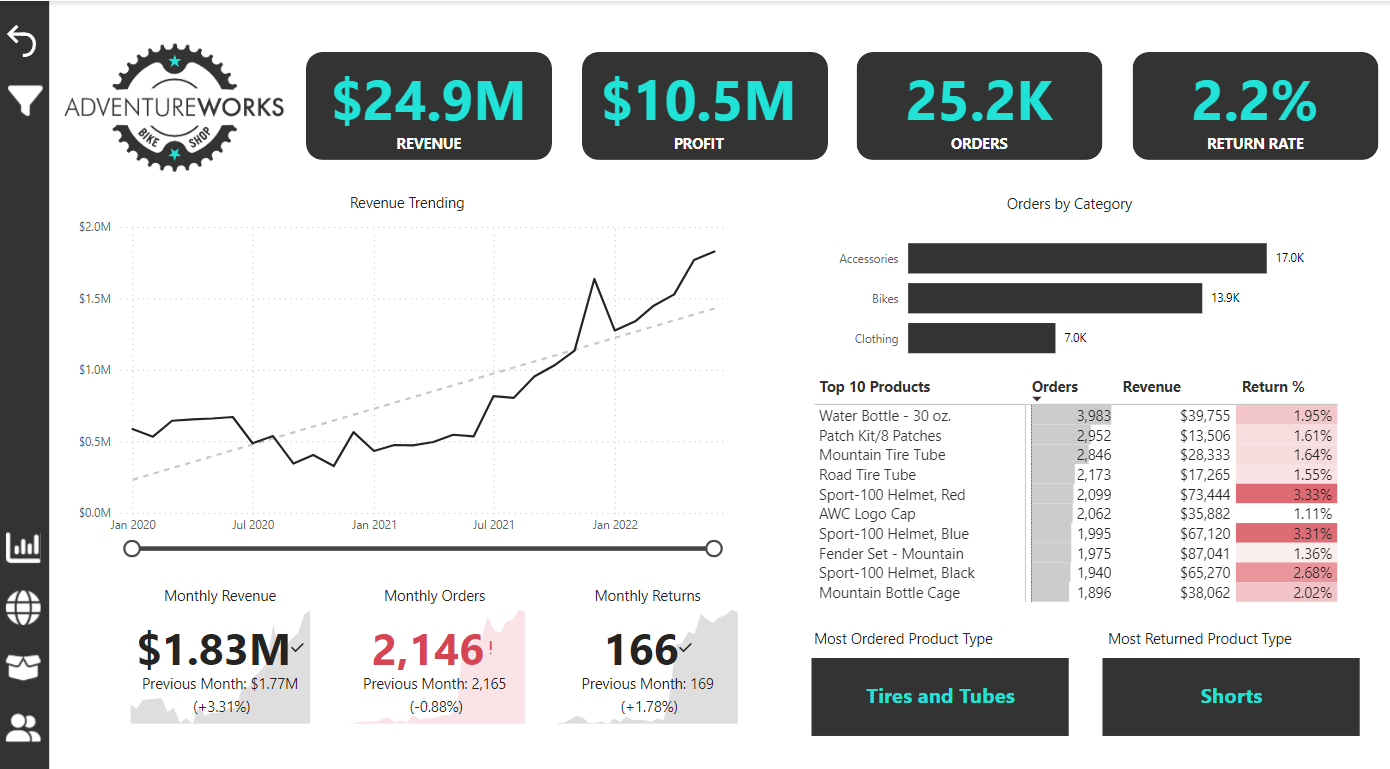

What the dashboard file says about the page in this screenshot:
{"tool":"powerbi","page":{"name":"Exec Dashboard","canvas":[1280,720],"ordinal":0},"visuals":[{"type":"card","fields":{"Values":["Measure Table.Total Revenue"]},"box":[263,17.3,256.7,157.5],"z":0,"group":"g2"},{"type":"image","title":"AW Logo","box":[31.6,19.2,256.6,156.4],"z":0},{"type":"group","id":"g1","title":"KPI Background","box":[279.9,46.6,981.2,98.8],"z":0,"group":"g3"},{"type":"shape","box":[279.9,46.6,225.1,98.8],"z":0,"group":"g1"},{"type":"actionButton","box":[1,480.3,45.3,39.8],"z":0,"group":"g4"},{"type":"shape","title":"Left Nav Background","box":[0,0,45,720],"z":1000},{"type":"group","id":"g2","title":"KPI Values","box":[263,17.3,1012.8,157.5],"z":1000,"group":"g3"},{"type":"card","fields":{"Values":["Measure Table.Total Profit"]},"box":[510.3,17.3,256.7,157.5],"z":1000,"group":"g2"},{"type":"shape","box":[532,46.6,225.1,98.8],"z":1000,"group":"g1"},{"type":"actionButton","box":[1,535.2,45.3,39.8],"z":1000,"group":"g4"},{"type":"group","id":"g3","title":"KPI","box":[263,17.3,1012.8,157.5],"z":2000},{"type":"card","fields":{"Values":["Measure Table.Total Orders"]},"box":[767,17.3,256.7,157.5],"z":2000,"group":"g2"},{"type":"shape","box":[784,46.6,225.1,98.8],"z":2000,"group":"g1"},{"type":"actionButton","box":[1,590.1,45.3,39.8],"z":2000,"group":"g4"},{"type":"card","fields":{"Values":["Measure Table.Return Rate"]},"box":[1019,17.3,256.7,157.5],"z":3000,"group":"g2"},{"type":"shape","box":[1036.1,46.6,225.1,98.8],"z":3000,"group":"g1"},{"type":"lineChart","title":"Revenue Trending","fields":{"Y":["Measure Table.Total Revenue"],"Category":["Calendar Lookup.Year","Calendar Lookup.Start of Quarter","Calendar Lookup.Start of Month"]},"box":[65.9,174.3,613.4,337.6],"z":3000},{"type":"actionButton","box":[1,645,45.3,39.8],"z":3000,"group":"g4"},{"type":"kpi","title":"Monthly Revenue","fields":{"Indicator":["Measure Table.Total Revenue"],"TrendLine":["Calendar Lookup.Start of Month"],"Goal":["Measure Table.Previous Month Revenue"]},"box":[113.4,534,174.8,132.3],"z":4000},{"type":"kpi","title":"Monthly Orders","fields":{"TrendLine":["Calendar Lookup.Start of Month"],"Indicator":["Measure Table.Total Orders"],"Goal":["Measure Table.Previous Month Orders"]},"box":[309.5,534,174.8,132.3],"z":5000},{"type":"kpi","title":"Monthly Returns","fields":{"TrendLine":["Calendar Lookup.Start of Month"],"Indicator":["Measure Table.Total Returns"],"Goal":["Measure Table.Previous Month Returns"]},"box":[505.6,534,174.8,132.3],"z":6000},{"type":"clusteredBarChart","title":"Orders by Category","fields":{"Category":["Product Categories Lookup.CategoryName"],"Y":["Measure Table.Total Orders"]},"box":[757.5,175.7,441.9,167.4],"z":7000},{"type":"pivotTable","fields":{"Rows":["Product Lookup.ProductName"],"Values":["Measure Table.Total Orders","Measure Table.Total Revenue","Measure Table.Return Rate"]},"box":[739.7,337.6,521.5,222.3],"z":8000},{"type":"card","fields":{"Values":["Min(Product Subcategories Lookup.SubcategoryName)"]},"box":[743,600.5,235.5,71.2],"z":9000},{"type":"textbox","box":[739.7,568.1,186.6,31.6],"z":10000},{"type":"card","fields":{"Values":["Min(Product Subcategories Lookup.SubcategoryName)"]},"box":[1009.1,600.5,235.5,71.2],"z":11000},{"type":"textbox","box":[1008.7,568.1,186.6,31.6],"z":12000},{"type":"actionButton","box":[0,16.5,45.3,39.8],"z":13000},{"type":"group","id":"g4","title":"Navigation Buttons","box":[1,480.3,45.3,204.5],"z":14000},{"type":"actionButton","box":[0,71.4,46.7,39.8],"z":15000}]}

Visuals, with their boxes on the page's 1280x720 design canvas (x1, y1, x2, y2). These are canvas units, not pixel positions in the 1390x769 screenshot, which may show the page scaled, cropped or inside an application window:
card - Measure Table.Total Revenue: box(263, 17, 520, 175)
"AW Logo" image: box(32, 19, 288, 176)
"KPI Background" group: box(280, 47, 1261, 145)
shape: box(280, 47, 505, 145)
actionButton: box(1, 480, 46, 520)
"Left Nav Background" shape: box(0, 0, 45, 720)
"KPI Values" group: box(263, 17, 1276, 175)
card - Measure Table.Total Profit: box(510, 17, 767, 175)
shape: box(532, 47, 757, 145)
actionButton: box(1, 535, 46, 575)
"KPI" group: box(263, 17, 1276, 175)
card - Measure Table.Total Orders: box(767, 17, 1024, 175)
shape: box(784, 47, 1009, 145)
actionButton: box(1, 590, 46, 630)
card - Measure Table.Return Rate: box(1019, 17, 1276, 175)
shape: box(1036, 47, 1261, 145)
"Revenue Trending" lineChart: box(66, 174, 679, 512)
actionButton: box(1, 645, 46, 685)
"Monthly Revenue" kpi: box(113, 534, 288, 666)
"Monthly Orders" kpi: box(310, 534, 484, 666)
"Monthly Returns" kpi: box(506, 534, 680, 666)
"Orders by Category" clusteredBarChart: box(758, 176, 1199, 343)
pivotTable - Product Lookup.ProductName x Measure Table.Total Orders: box(740, 338, 1261, 560)
card - Min(Product Subcategories Lookup.SubcategoryName): box(743, 600, 978, 672)
textbox: box(740, 568, 926, 600)
card - Min(Product Subcategories Lookup.SubcategoryName): box(1009, 600, 1245, 672)
textbox: box(1009, 568, 1195, 600)
actionButton: box(0, 16, 45, 56)
"Navigation Buttons" group: box(1, 480, 46, 685)
actionButton: box(0, 71, 47, 111)
